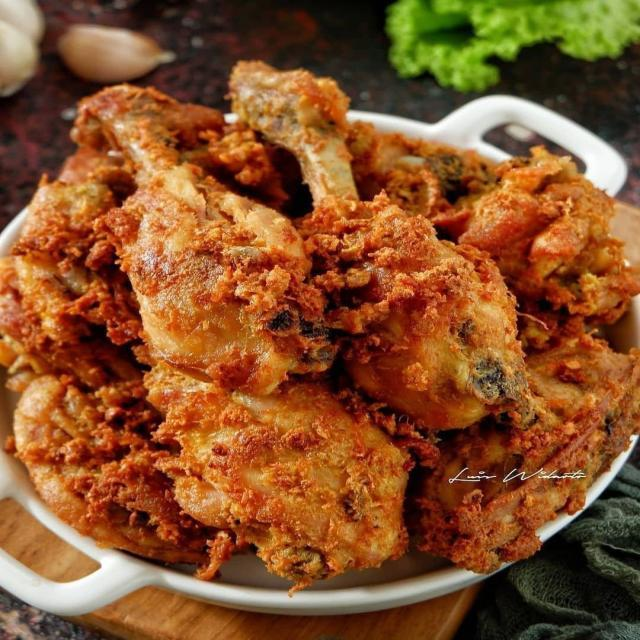ayam_goreng: (34, 37, 612, 602)
